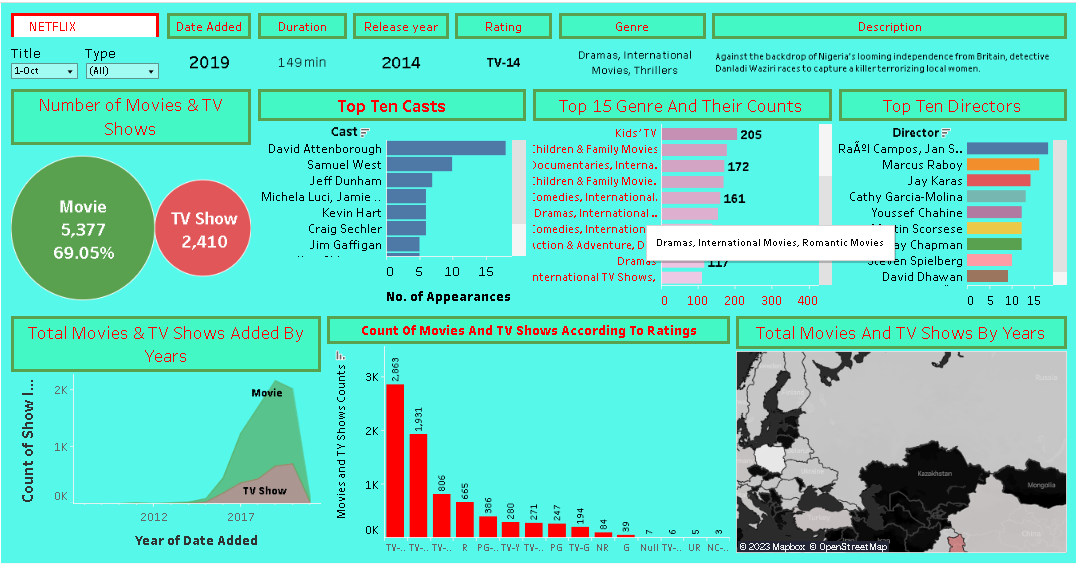

Layout of this report page (visuals, bound fields, positions):
{"tool":"tableau","page":{"name":"Dashboard 1","canvas":[1345,700],"ordinal":0},"visuals":[{"type":"worksheet","title":"Title","mark":"Automatic","box":[8,8,195,39]},{"type":"worksheet","title":"Date Added","mark":"Automatic","box":[203,8,114,95]},{"type":"worksheet","title":"Duration","mark":"Automatic","box":[317,8,119,95]},{"type":"worksheet","title":"Release year","mark":"Automatic","box":[436,8,128,95]},{"type":"worksheet","title":"Rating","mark":"Automatic","box":[564,8,129,95]},{"type":"worksheet","title":"Genre","mark":"Automatic","box":[693,8,192,95]},{"type":"worksheet","title":"Description","mark":"Automatic","box":[885,8,452,95]},{"type":"filter","title":"Description","param":"[federated.1mrx2t80r34cbu1g9o4u90xe1ycr].[none:title:nk]","box":[8,47,93,56]},{"type":"filter","title":"Description","param":"[federated.1mrx2t80r34cbu1g9o4u90xe1ycr].[none:type:nk]","box":[101,47,102,56]},{"type":"worksheet","title":"Number of Movies & TV Shows","mark":"Circle","box":[8,103,309,284]},{"type":"worksheet","title":"Top Ten Cast","mark":"Automatic","rows":["cast"],"cols":["Calculation_711568747683856384"],"box":[317,103,344,284]},{"type":"worksheet","title":"Top 15 Genre","mark":"Automatic","rows":["listed_in"],"cols":["show_id"],"box":[661,103,383,284]},{"type":"worksheet","title":"Top Ten Directors","mark":"Automatic","rows":["director"],"cols":["show_id"],"box":[1044,103,293,284]},{"type":"worksheet","title":"Total Movies & TV Shows By Years","mark":"Area","rows":["show_id"],"cols":["date_added"],"box":[8,387,396,305]},{"type":"worksheet","title":"Counts by Ratings","mark":"Automatic","rows":["show_id"],"cols":["rating"],"box":[404,387,511,305]},{"type":"worksheet","title":"Map-Total Movies And TV Shows By Years","mark":"Multipolygon","box":[915,387,422,305]}]}

Visuals, with their boxes in screenshot pixels (x1, y1, x2, y2), scaled from the page's 1345x700 canvas onto the 1076x564 screenshot:
"Title" worksheet: {"x1": 6, "y1": 6, "x2": 162, "y2": 38}
"Date Added" worksheet: {"x1": 162, "y1": 6, "x2": 254, "y2": 83}
"Duration" worksheet: {"x1": 254, "y1": 6, "x2": 349, "y2": 83}
"Release year" worksheet: {"x1": 349, "y1": 6, "x2": 451, "y2": 83}
"Rating" worksheet: {"x1": 451, "y1": 6, "x2": 554, "y2": 83}
"Genre" worksheet: {"x1": 554, "y1": 6, "x2": 708, "y2": 83}
"Description" worksheet: {"x1": 708, "y1": 6, "x2": 1070, "y2": 83}
"Description" filter: {"x1": 6, "y1": 38, "x2": 81, "y2": 83}
"Description" filter: {"x1": 81, "y1": 38, "x2": 162, "y2": 83}
"Number of Movies & TV Shows" worksheet (Circle marks): {"x1": 6, "y1": 83, "x2": 254, "y2": 312}
"Top Ten Cast" worksheet: {"x1": 254, "y1": 83, "x2": 529, "y2": 312}
"Top 15 Genre" worksheet: {"x1": 529, "y1": 83, "x2": 835, "y2": 312}
"Top Ten Directors" worksheet: {"x1": 835, "y1": 83, "x2": 1070, "y2": 312}
"Total Movies & TV Shows By Years" worksheet (Area marks): {"x1": 6, "y1": 312, "x2": 323, "y2": 558}
"Counts by Ratings" worksheet: {"x1": 323, "y1": 312, "x2": 732, "y2": 558}
"Map-Total Movies And TV Shows By Years" worksheet (Multipolygon marks): {"x1": 732, "y1": 312, "x2": 1070, "y2": 558}
